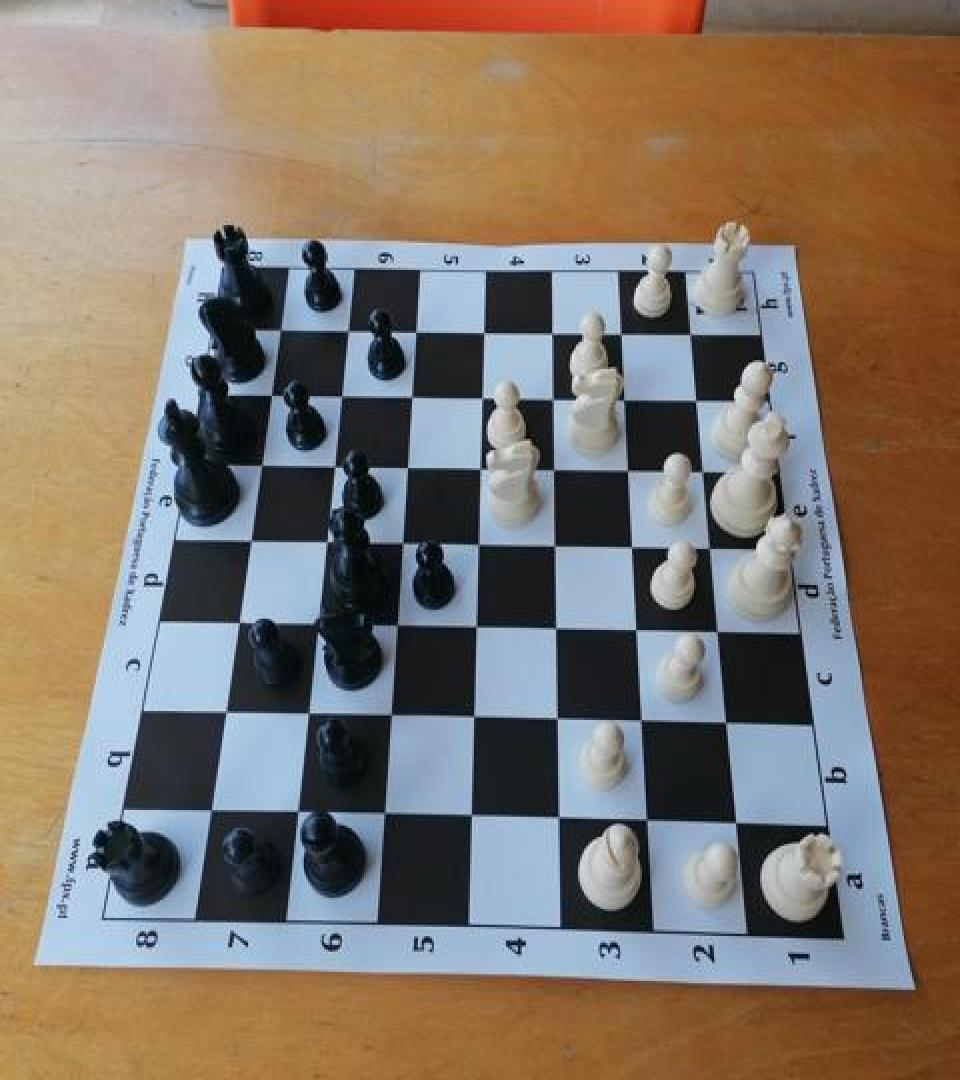xcorner: (196, 794, 226, 828), (284, 796, 314, 830), (371, 798, 401, 832), (459, 801, 489, 835), (548, 803, 578, 837), (636, 806, 666, 840), (725, 809, 755, 843), (209, 695, 239, 729), (293, 698, 323, 732), (377, 700, 407, 734), (461, 702, 491, 736), (545, 704, 575, 738), (630, 706, 660, 740), (715, 708, 745, 742), (222, 605, 252, 639), (302, 608, 332, 642), (382, 610, 412, 644), (462, 611, 492, 645), (543, 613, 573, 647), (624, 615, 654, 649), (706, 616, 736, 650), (233, 523, 263, 557), (309, 524, 339, 558), (387, 526, 417, 560), (464, 528, 494, 562), (541, 530, 571, 564), (619, 531, 649, 565), (697, 533, 727, 567), (243, 446, 273, 480), (391, 449, 421, 483), (465, 451, 495, 485), (540, 452, 570, 486), (614, 453, 644, 487), (689, 456, 719, 490), (252, 376, 282, 410), (324, 377, 354, 411), (395, 378, 425, 412), (466, 380, 496, 414), (538, 381, 568, 415), (610, 382, 640, 416), (682, 384, 712, 418), (398, 312, 428, 346), (467, 314, 497, 348), (536, 315, 566, 349), (606, 316, 636, 350), (675, 317, 705, 351), (317, 448, 347, 481), (261, 311, 291, 344), (330, 312, 360, 345)
